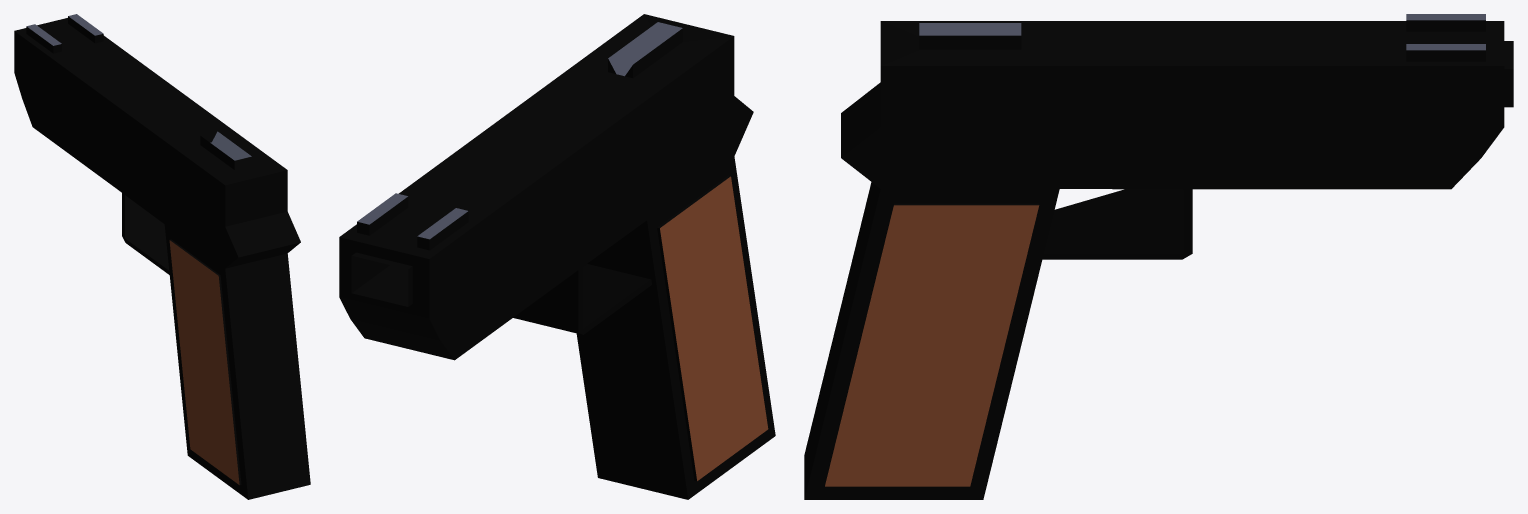
Rendered from LowPoly_Pistol.fbx.
3 views of the same model, side by side, from view 1: azimuth 30°, elevation 25°; view 2: azimuth 150°, elevation 25°; view 3: azimuth 270°, elevation 25° (orthographic). The views are drawn at different scales.
Parts seen in each view (by area): view 1: Pistol; view 2: Pistol; view 3: Pistol.
Part boxes in pixels (bbox=[...]): Pistol: bbox=[14, 14, 310, 499]; Pistol: bbox=[339, 14, 775, 499]; Pistol: bbox=[804, 14, 1513, 499].
Bounding box in the file's own units: 179 × 759 × 1084.
